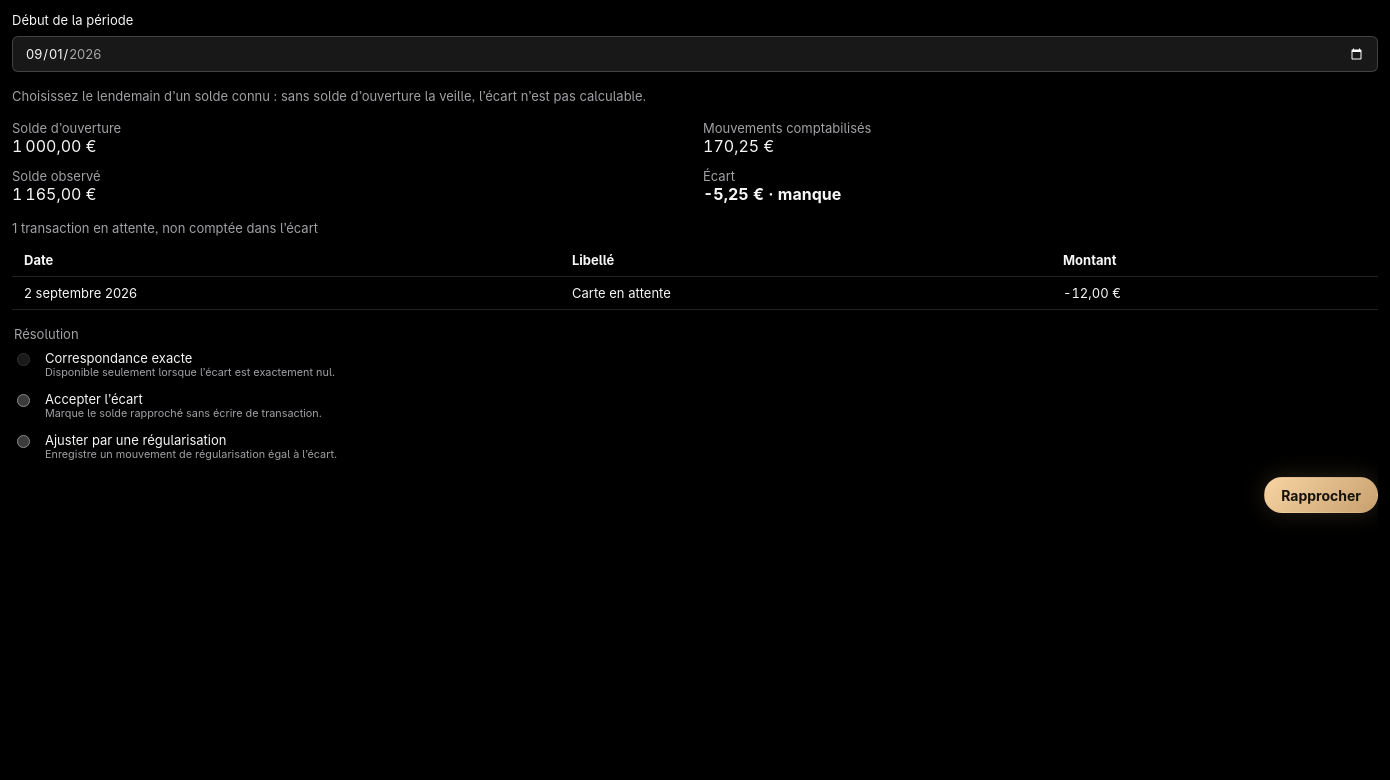
Test: ReconciliationPanel › states that an adjustment is neither income nor expense
Expected: the element with test id "discrepancy" is shown, top-left (703, 184), bottom-right (841, 204)
Click the radio button labelled "Ajuster": (24, 442) top-left (17, 435), bottom-right (30, 448)
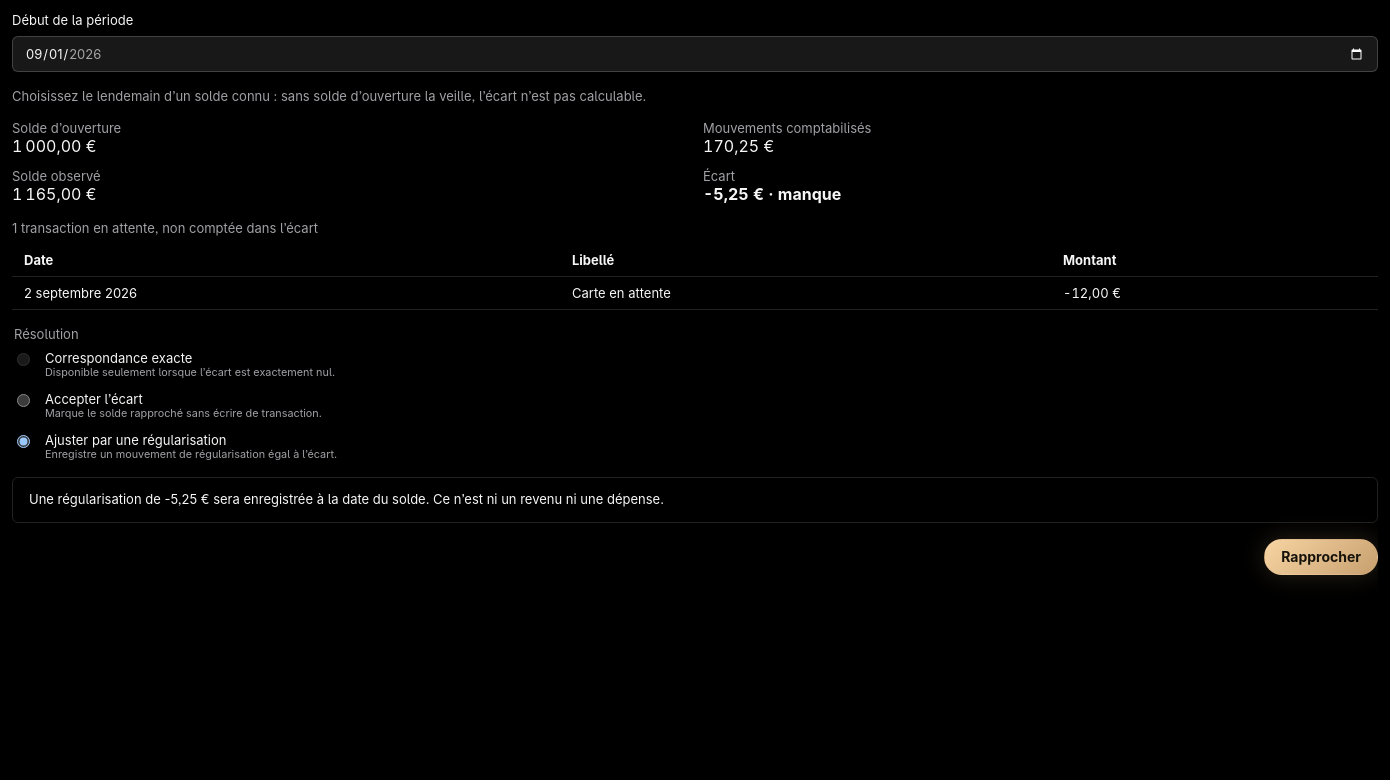
Expected: the text "ni un revenu ni une dépense" is shown, top-left (29, 491), bottom-right (664, 507)
